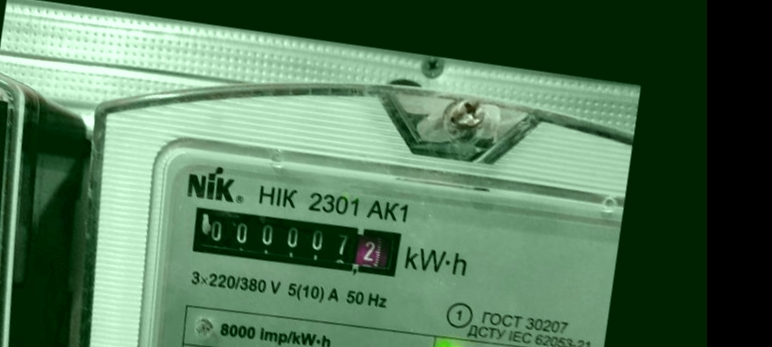0: (207, 216, 224, 242), (284, 224, 301, 249), (259, 221, 275, 246), (309, 226, 325, 251), (233, 220, 249, 243)
2: (361, 238, 377, 262)
7: (334, 230, 350, 255)
screen: (179, 192, 413, 289)
